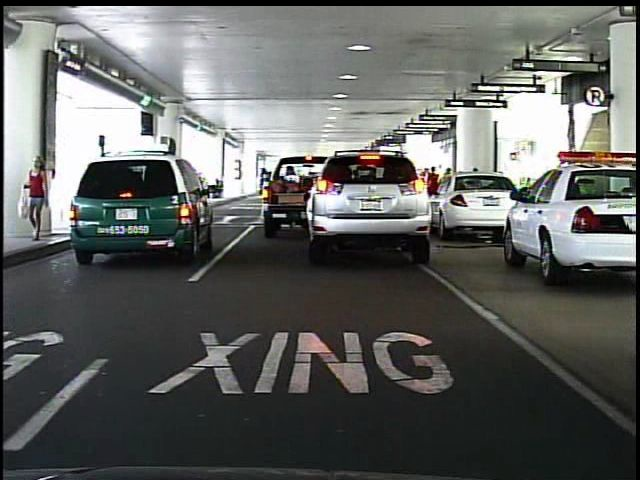person: (27, 151, 56, 245)
